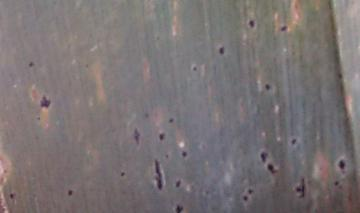tarspot: (149, 155, 168, 194), (291, 174, 312, 205), (37, 91, 54, 112), (335, 155, 349, 177), (130, 126, 143, 149), (264, 163, 283, 178), (170, 201, 189, 213), (287, 133, 302, 148), (333, 67, 346, 84), (256, 148, 269, 164), (245, 15, 257, 32), (172, 176, 185, 191), (155, 129, 168, 143), (215, 43, 228, 57), (276, 22, 290, 35), (261, 79, 273, 94), (116, 166, 127, 181), (6, 189, 18, 201), (240, 191, 251, 204), (178, 148, 190, 159), (245, 184, 257, 195), (65, 186, 75, 199), (25, 57, 36, 68), (332, 176, 342, 188), (190, 64, 201, 74), (165, 114, 175, 124), (141, 110, 149, 120)
